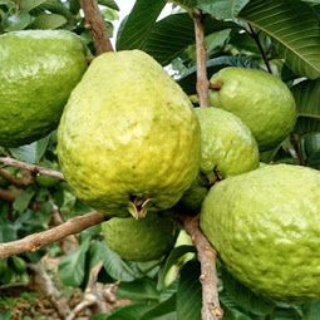oi: (57, 51, 199, 213)
